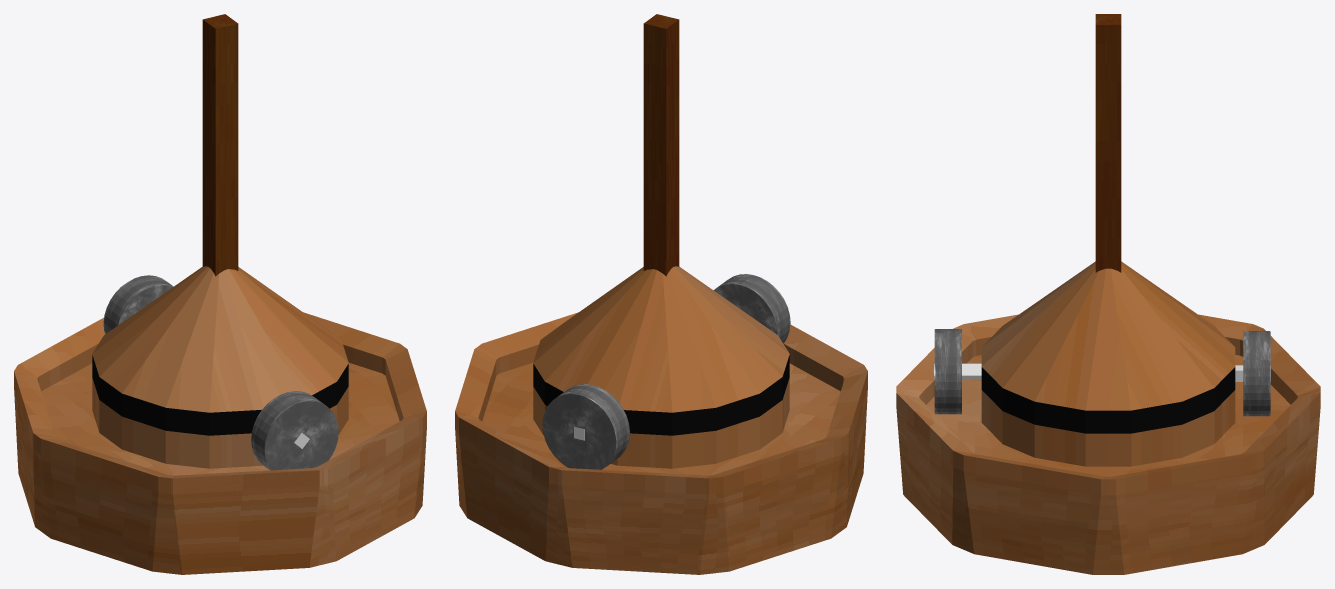
File: RiceMill.glb
3 renders of one model, left to right at view 1: azimuth 30°, elevation 25°; view 2: azimuth 150°, elevation 25°; view 3: azimuth 270°, elevation 25°, orthographic.
Visible parts, largest first — view 1: Cube, Cube.001, Cylinder, Cube.002; view 2: Cube, Cube.001, Cube.002, Cylinder; view 3: Cube, Cube.001, Cylinder, Cube.002.
Part boxes in pixels (<box>): Cube: <box>14,266,426,574</box>; Cube.001: <box>202,14,238,276</box>; Cylinder: <box>251,391,338,470</box>; Cube.002: <box>103,275,173,334</box>; Cube: <box>455,266,867,574</box>; Cube.001: <box>643,14,679,276</box>; Cube.002: <box>542,384,629,469</box>; Cylinder: <box>713,274,790,343</box>; Cube: <box>896,261,1320,574</box>; Cube.001: <box>1095,14,1121,272</box>; Cylinder: <box>934,329,981,414</box>; Cube.002: <box>1235,331,1270,416</box>.
Size of the model in its own units: 2.48 by 3.02 by 2.48.
Materials: 4 (3 with a texture image).
